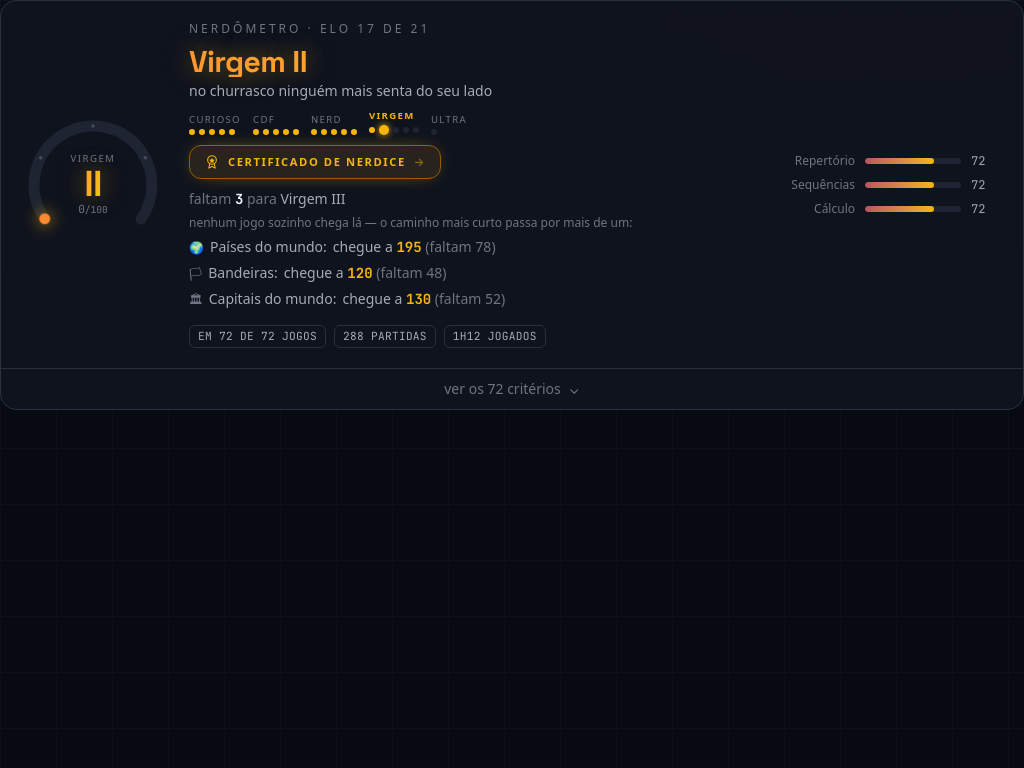
Test case: o certificado › sem nome digitado, sai em nome de Anônimo
Click the button "certificado de nerdice →". click: (315, 162)
box: [189,145,441,179]
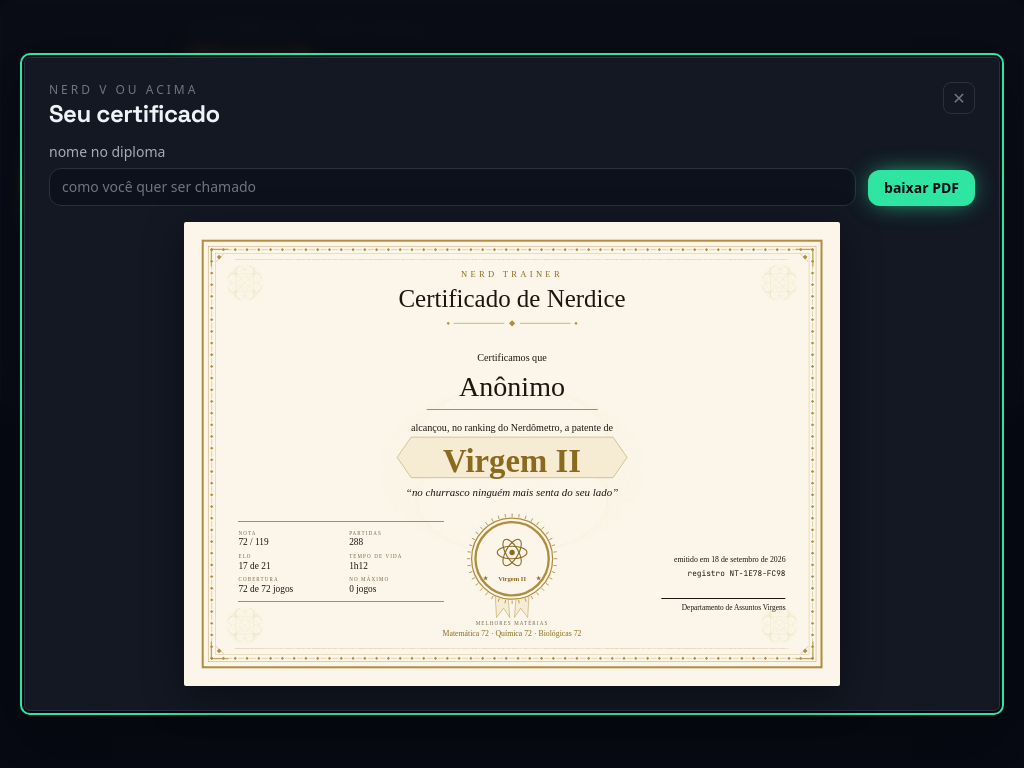
Expected: the text "Anônimo" is shown, [459,373,565,401]
